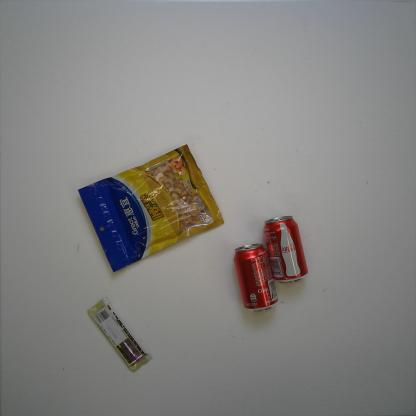Chocolate: (86, 297, 152, 374)
Dried Fruit: (77, 144, 224, 272)
Drink: (234, 242, 278, 314), (263, 216, 309, 284)
